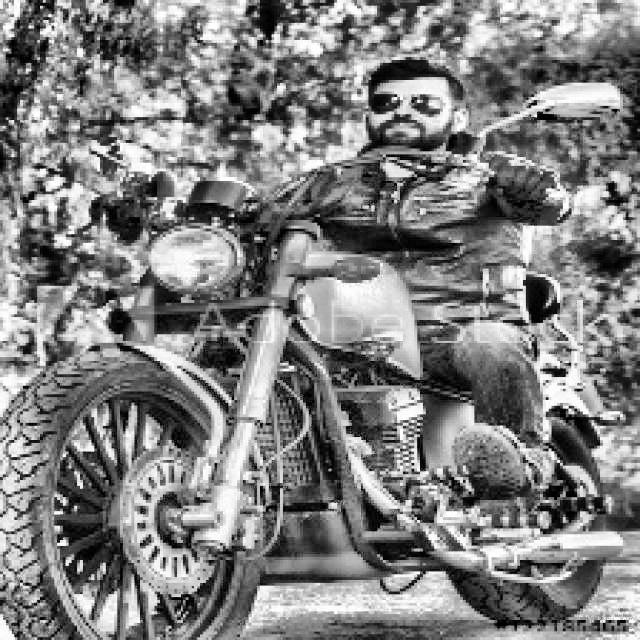motorcycle: (0, 113, 634, 640)
